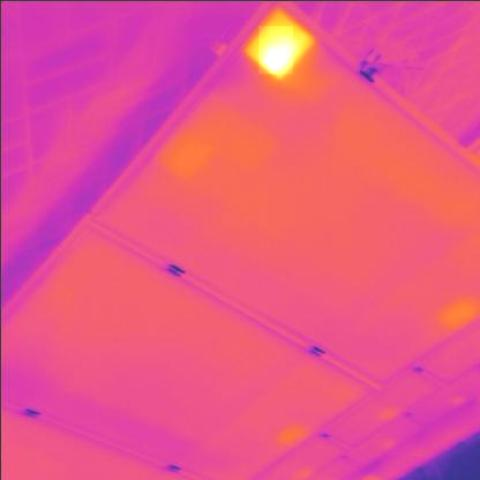fault: (259, 26, 293, 74)
